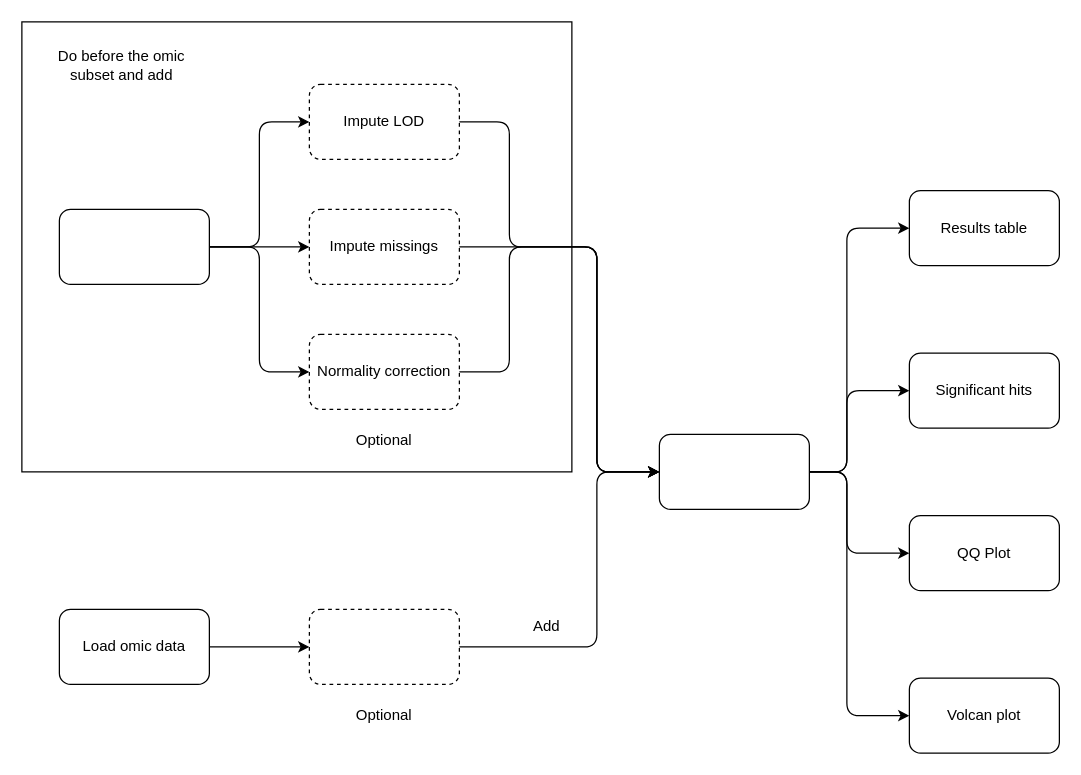
Some shapes in this 1081 by 775 pixel diagram are drawn without their labels. Each missing label, with the centre of its shape:
"Choose model" goes at pixel 733 471.
"Load exposome data" goes at pixel 133 246.
"Subset" goes at pixel 383 646.
